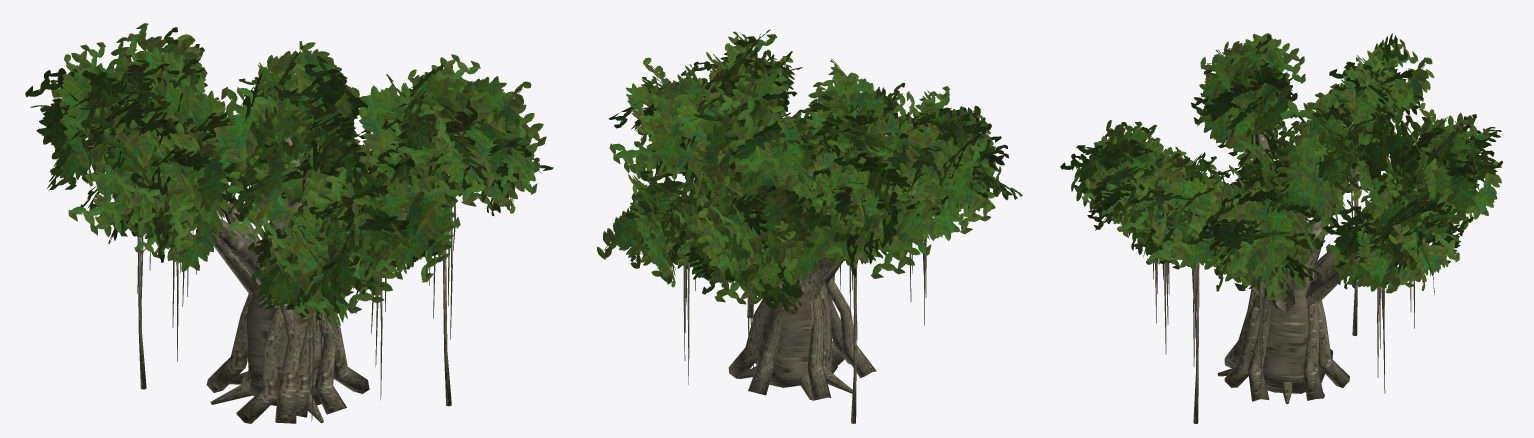
Rendered from Banyan_Almaram.glb.
3 views of the same model, side by side, from view 1: azimuth 30°, elevation 25°; view 2: azimuth 150°, elevation 25°; view 3: azimuth 270°, elevation 25° (orthographic). The views are drawn at different scales.
Parts seen in each view (by area): view 1: Banyan_Almaram; view 2: Banyan_Almaram; view 3: Banyan_Almaram.
Part boxes in pixels (x1,y1,x2,y2): Banyan_Almaram: (25,23,553,423); Banyan_Almaram: (597,29,1022,423); Banyan_Almaram: (1060,33,1502,423).
Bounding box in the file's own units: 13.22 × 9 × 13.03.
2 materials, 2 textured.
